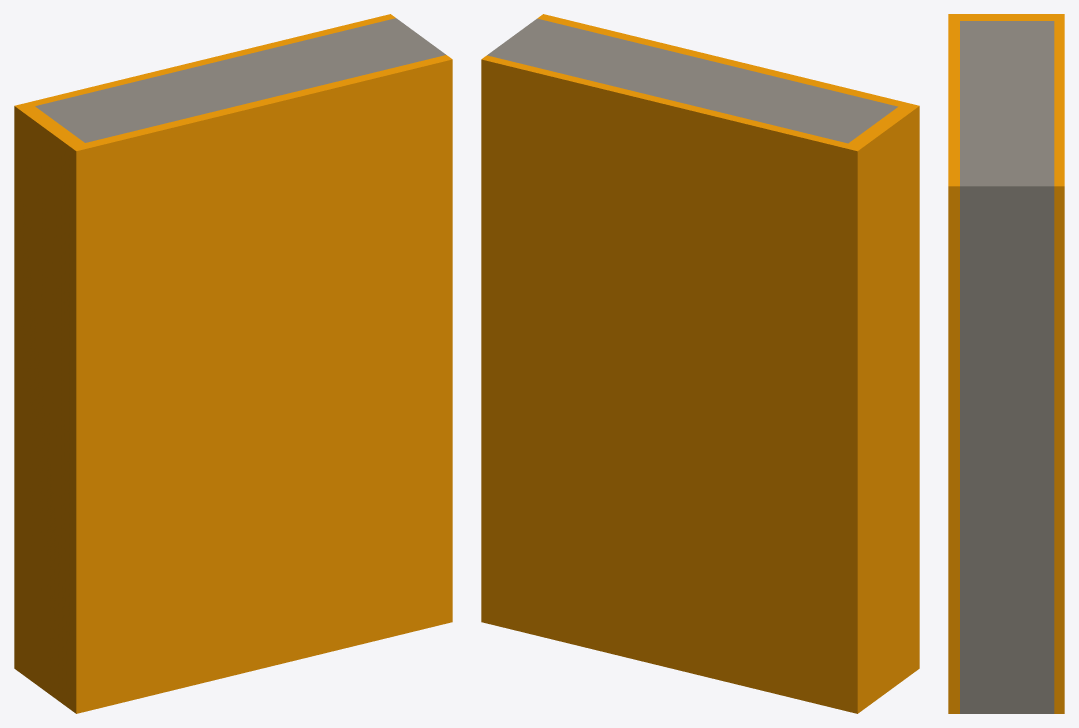
Rendered from Books_1.fbx.
The picture shows the model from 3 angles, left to right: view 1: azimuth 30°, elevation 25°; view 2: azimuth 150°, elevation 25°; view 3: azimuth 270°, elevation 25°; orthographic projection. The views are drawn at different scales.
Visible parts, largest first — view 1: pCube211; view 2: pCube211; view 3: pCube211.
Boxes of the visible parts, x1,y1,x2,y2 form: pCube211: [14, 14, 452, 713]; pCube211: [481, 14, 919, 713]; pCube211: [948, 14, 1064, 713].
Bounding box in the file's own units: 0.35 × 0.5 × 0.1.
Materials: 1 (1 with a texture image).
